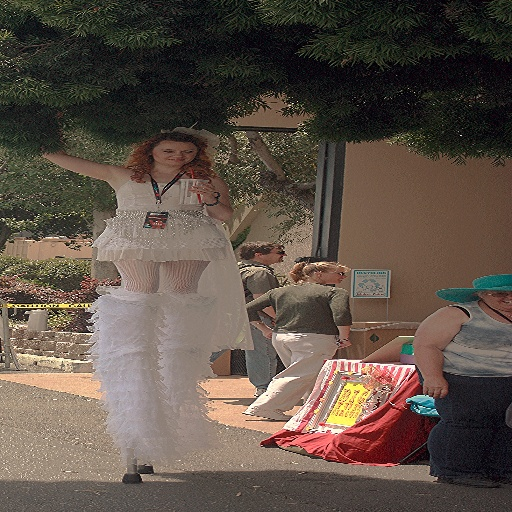hand: (187, 182, 221, 204), (420, 376, 448, 400), (256, 327, 276, 340), (333, 337, 354, 349)
